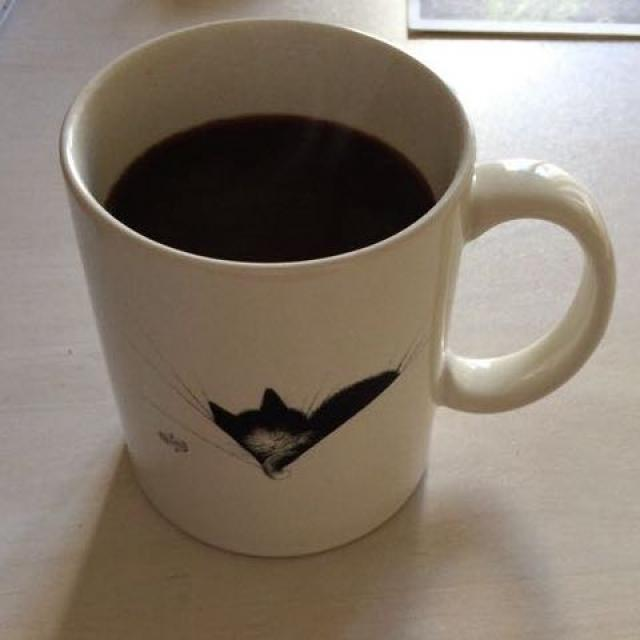coffee: (109, 110, 430, 263)
